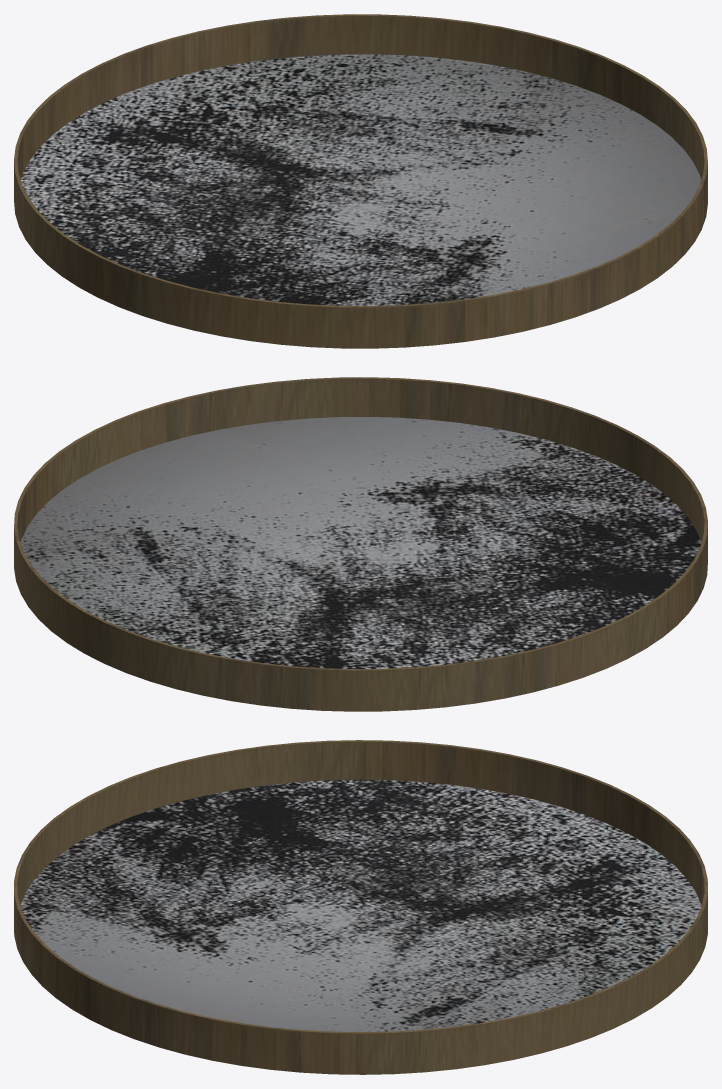
File: Clear_MirrorTray-Large.glb
3 renders of one model, top to bottom at view 1: azimuth 30°, elevation 25°; view 2: azimuth 150°, elevation 25°; view 3: azimuth 270°, elevation 25°, orthographic.
Parts seen in each view (by area): view 1: model 5; view 2: model 5; view 3: model 5.
Boxes of the visible parts, x1=… form: model 5: x1=14, y1=14, x2=707, y2=348; model 5: x1=14, y1=377, x2=707, y2=711; model 5: x1=14, y1=740, x2=707, y2=1074.
Size of the model in its own units: 0.6381 by 0.0418 by 0.6376.
3 materials, 3 textured.
